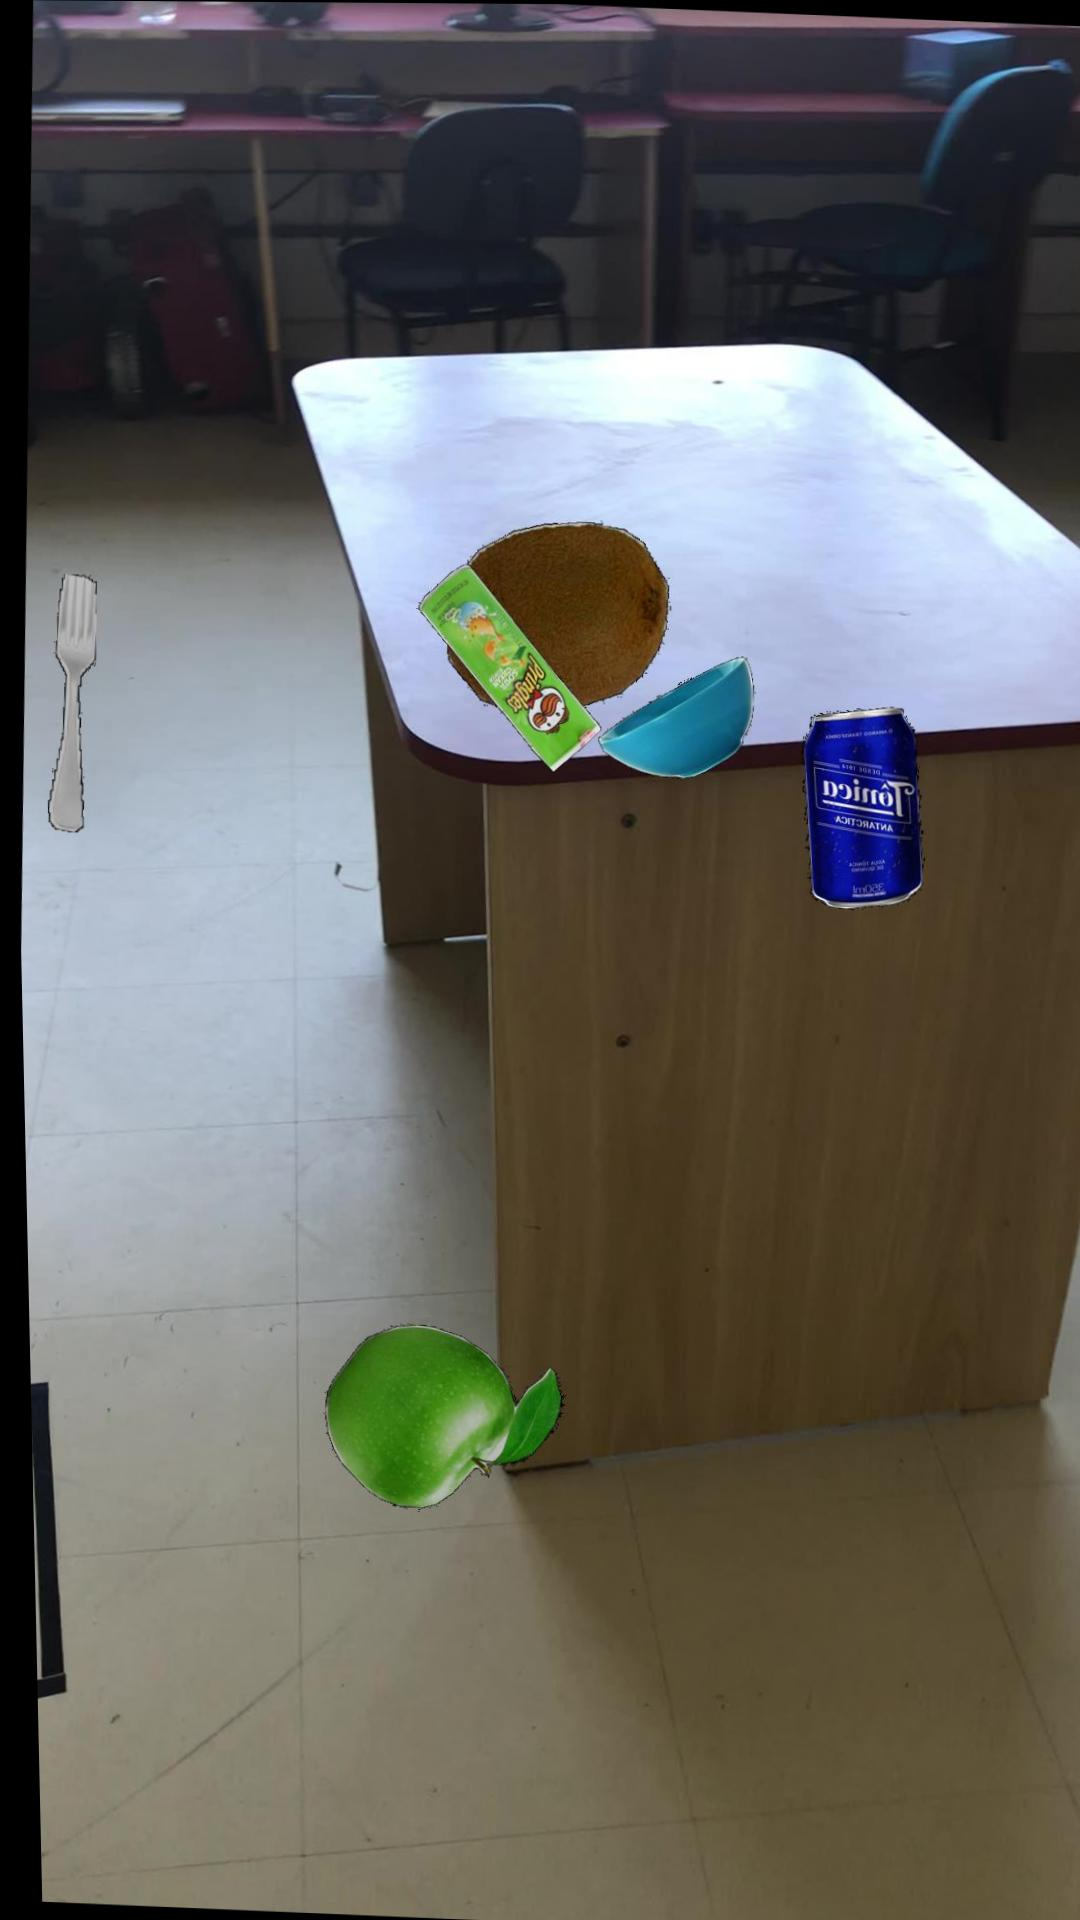bowl: (593, 654, 749, 775)
fork: (42, 572, 92, 831)
green apple: (318, 1323, 556, 1507)
kiwi: (443, 520, 665, 705)
pringles: (414, 562, 596, 770)
tonic: (796, 704, 918, 906)
